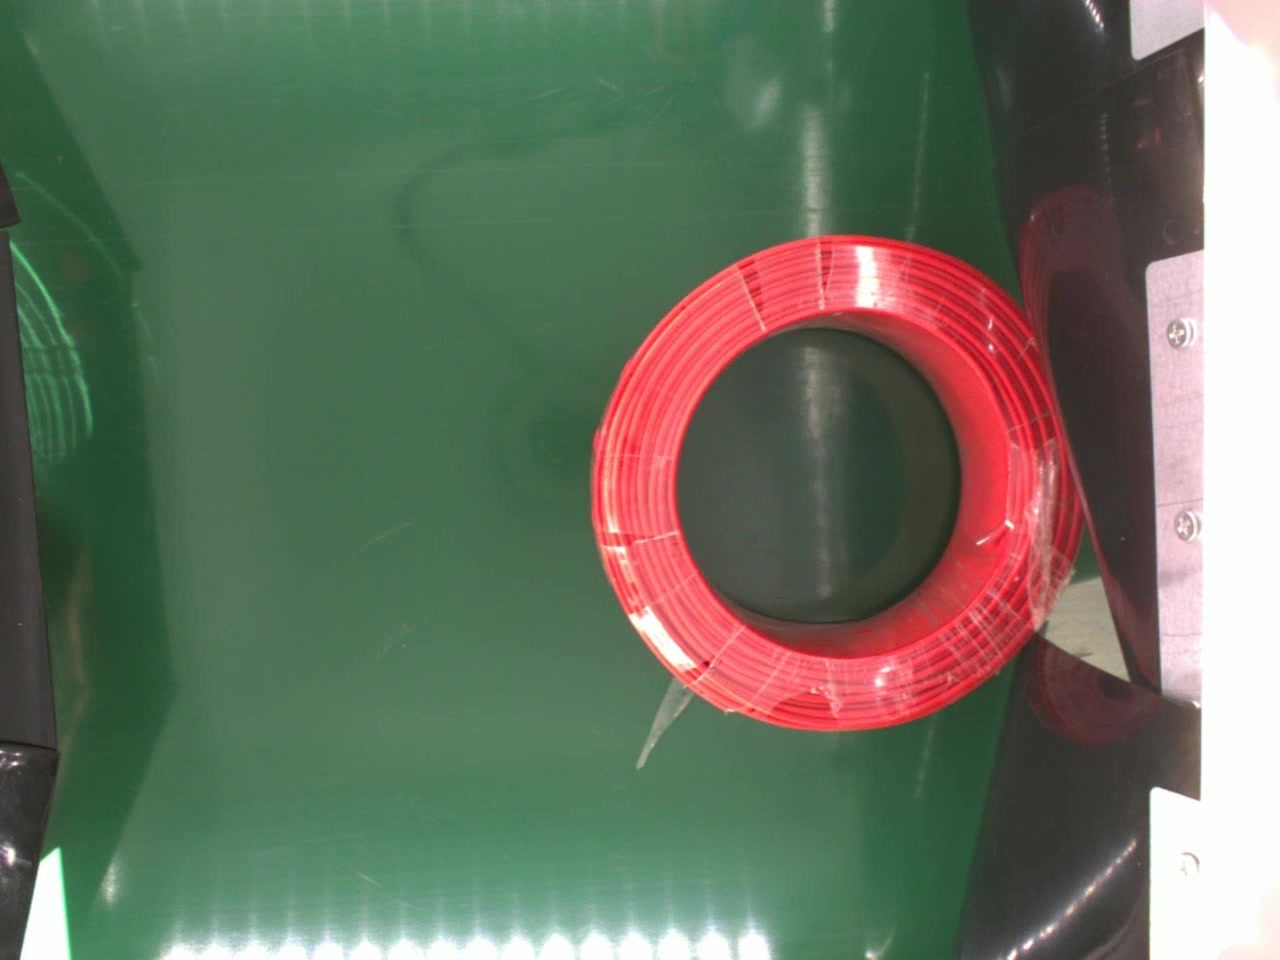red: (582, 233, 1091, 734)
